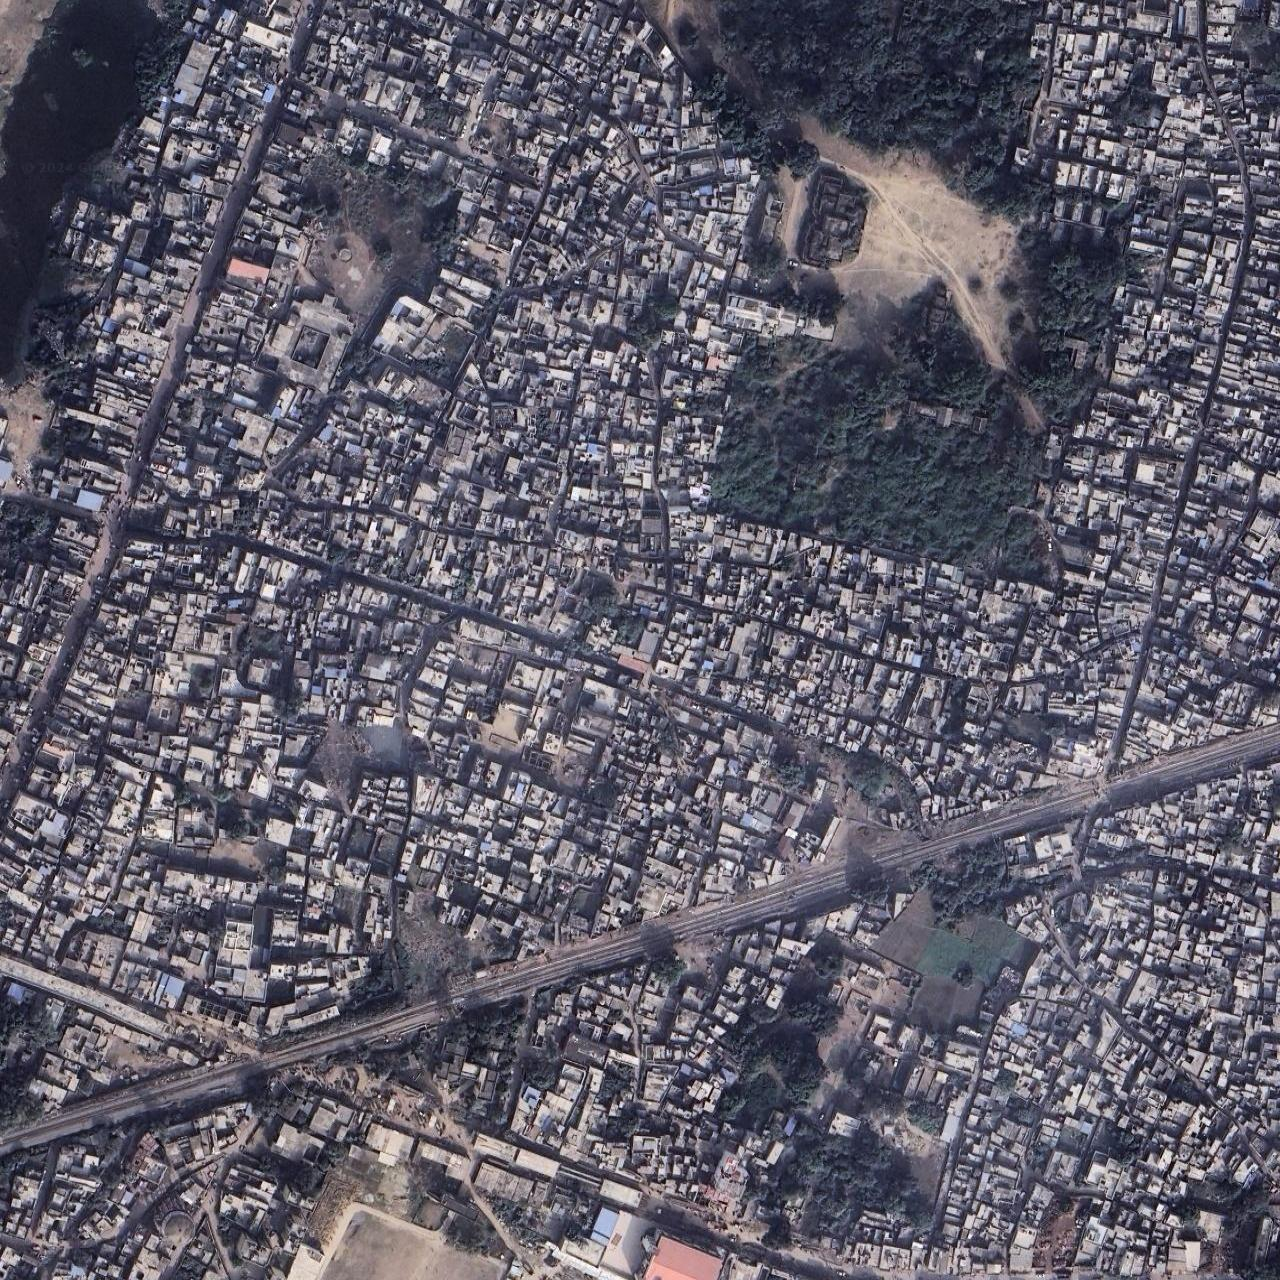greenery: (613, 0, 1130, 598), (604, 941, 978, 1245), (377, 979, 591, 1137), (1159, 1155, 1276, 1280), (1206, 12, 1279, 169), (1090, 61, 1186, 165)
house: (1, 0, 1273, 1019), (0, 2, 324, 788), (855, 756, 1273, 1280), (308, 1054, 871, 1280), (11, 1074, 328, 1276)
water: (0, 0, 191, 384)
